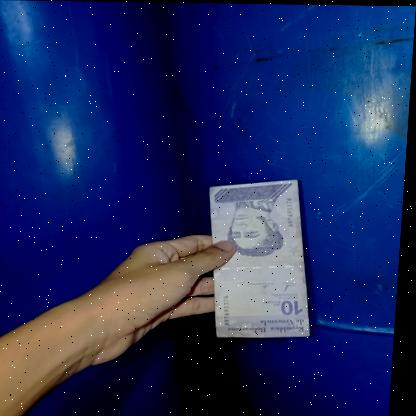ten-front-vef: (205, 178, 324, 338)
